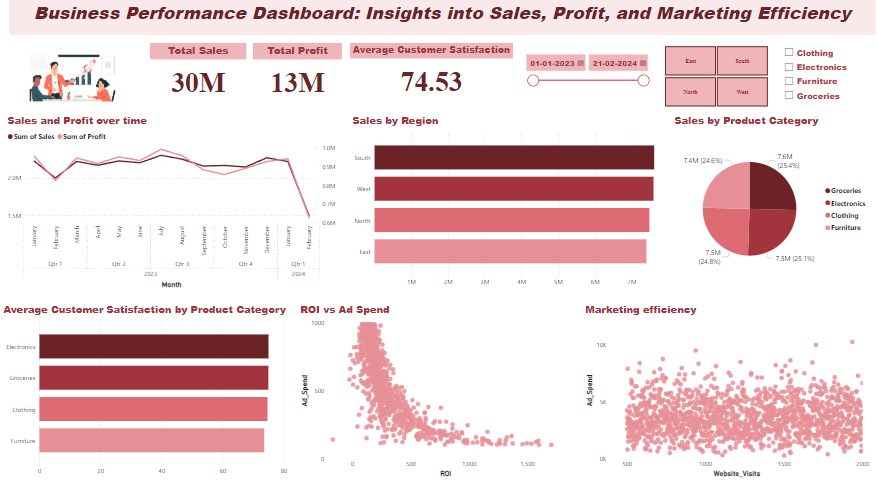

Layout of this report page (visuals, bound fields, positions):
{"tool":"powerbi","page":{"name":"Page 1","canvas":[1920,1080],"ordinal":0},"visuals":[{"type":"card","title":"Total Sales","fields":{"Values":["Sum(large_dashboard_dataset.Sales)"]},"box":[336,112,208,128],"z":0},{"type":"card","title":"Total Profit","fields":{"Values":["Sum(large_dashboard_dataset.Profit)"]},"box":[560,112,192,128],"z":1000},{"type":"card","title":"Average Customer Satisfaction","fields":{"Values":["Avg(large_dashboard_dataset.Customer_Satisfaction_Score)"]},"box":[768,112,352,128],"z":2000},{"type":"lineChart","title":"Sales and Profit over time","fields":{"Y":["Sum(large_dashboard_dataset.Sales)"],"Y2":["Sum(large_dashboard_dataset.Profit)"],"Category":["large_dashboard_dataset.Date.Variation.Date Hierarchy.Year","large_dashboard_dataset.Date.Variation.Date Hierarchy.Quarter","large_dashboard_dataset.Date.Variation.Date Hierarchy.Month"]},"box":[24,264,720,384],"z":3000},{"type":"barChart","title":"Sales by Region","fields":{"Y":["Sum(large_dashboard_dataset.Sales)"],"Category":["large_dashboard_dataset.Region"]},"box":[768,264,672,384],"z":4000},{"type":"pieChart","title":"Sales by Product Category","fields":{"Category":["large_dashboard_dataset.Product_Category"],"Y":["Sum(large_dashboard_dataset.Sales)"]},"box":[1464,264,432,384],"z":5000},{"type":"barChart","title":"Average Customer Satisfaction by Product Category","fields":{"Y":["Avg(large_dashboard_dataset.Customer_Satisfaction_Score)"],"Category":["large_dashboard_dataset.Product_Category"]},"box":[16,672,624,384],"z":6000},{"type":"scatterChart","title":"ROI vs Ad Spend","fields":{"X":["large_dashboard_dataset.ROI"],"Y":["large_dashboard_dataset.Ad_Spend"]},"box":[656,672,592,384],"z":7000},{"type":"scatterChart","title":"Marketing efficiency","fields":{"X":["large_dashboard_dataset.Website_Visits"],"Y":["Sum(large_dashboard_dataset.Ad_Spend)"]},"box":[1272,672,624,384],"z":8000},{"type":"slicer","fields":{"Values":["large_dashboard_dataset.Date"]},"box":[1136,112,288,96],"z":9000},{"type":"slicer","fields":{"Values":["large_dashboard_dataset.Region"]},"box":[1424,112,272,144],"z":10000},{"type":"slicer","fields":{"Values":["large_dashboard_dataset.Product_Category"]},"box":[1696,112,208,144],"z":11000},{"type":"textbox","box":[32,16,1872,80],"z":11001},{"type":"image","box":[32,112,272,144],"z":11002}]}

Visuals, with their boxes in screenshot pixels (x1, y1, x2, y2), scaled from the page's 1920x1080 canvas onto the 877x488 screenshot:
"Total Sales" card: x1=153 y1=51 x2=248 y2=108
"Total Profit" card: x1=256 y1=51 x2=343 y2=108
"Average Customer Satisfaction" card: x1=351 y1=51 x2=512 y2=108
"Sales and Profit over time" lineChart: x1=11 y1=119 x2=340 y2=293
"Sales by Region" barChart: x1=351 y1=119 x2=658 y2=293
"Sales by Product Category" pieChart: x1=669 y1=119 x2=866 y2=293
"Average Customer Satisfaction by Product Category" barChart: x1=7 y1=304 x2=292 y2=477
"ROI vs Ad Spend" scatterChart: x1=300 y1=304 x2=570 y2=477
"Marketing efficiency" scatterChart: x1=581 y1=304 x2=866 y2=477
slicer - large_dashboard_dataset.Date: x1=519 y1=51 x2=650 y2=94
slicer - large_dashboard_dataset.Region: x1=650 y1=51 x2=775 y2=116
slicer - large_dashboard_dataset.Product_Category: x1=775 y1=51 x2=870 y2=116
textbox: x1=15 y1=7 x2=870 y2=43
image: x1=15 y1=51 x2=139 y2=116
